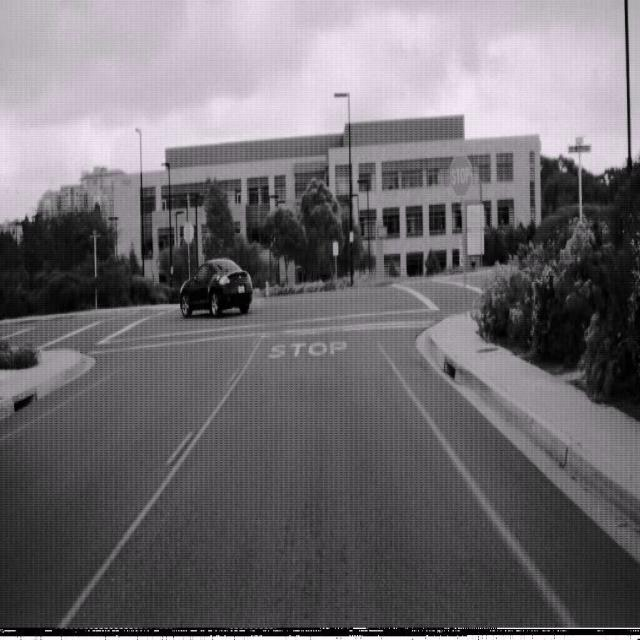stop: (448, 152, 472, 199)
